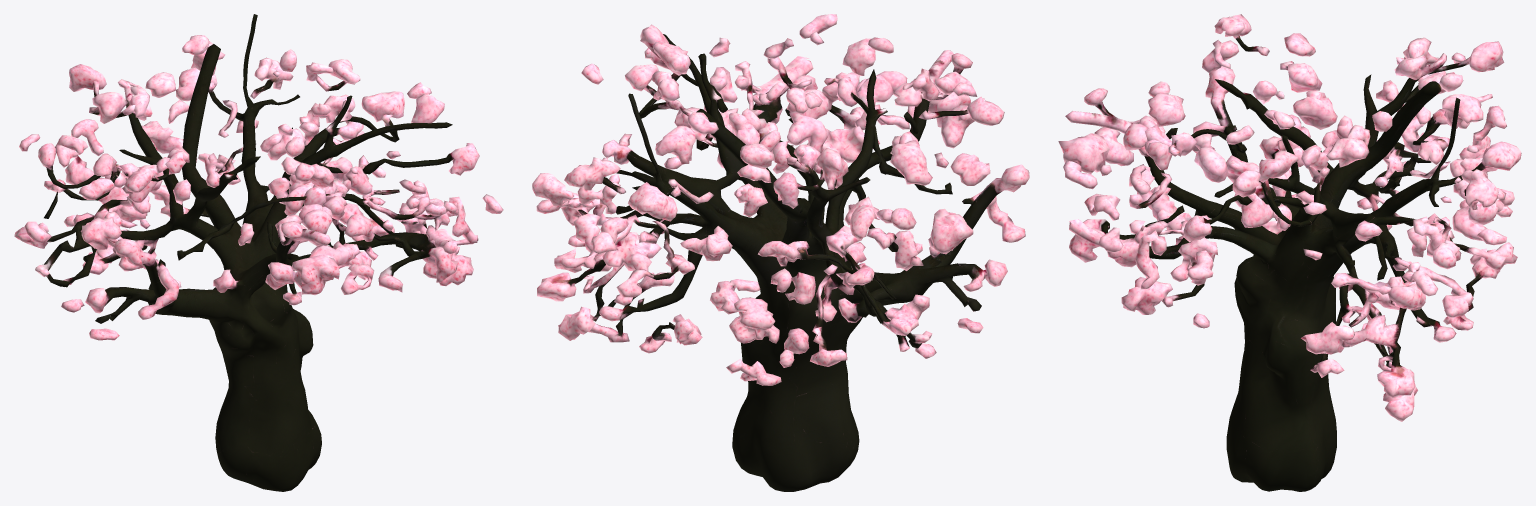
File: cherry_tree.glb
3 views of the same model, side by side, from view 1: azimuth 30°, elevation 25°; view 2: azimuth 150°, elevation 25°; view 3: azimuth 270°, elevation 25° (orthographic). The views are drawn at different scales.
Size of the model in its own units: 1.89 by 1.89 by 1.89.
Materials: 1 (1 with a texture image).
